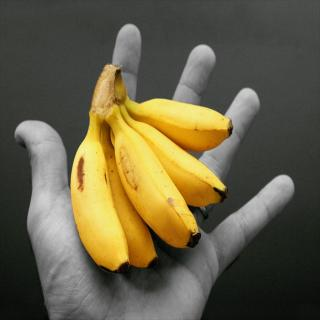Banana: (70, 64, 234, 277), (70, 114, 129, 274)
